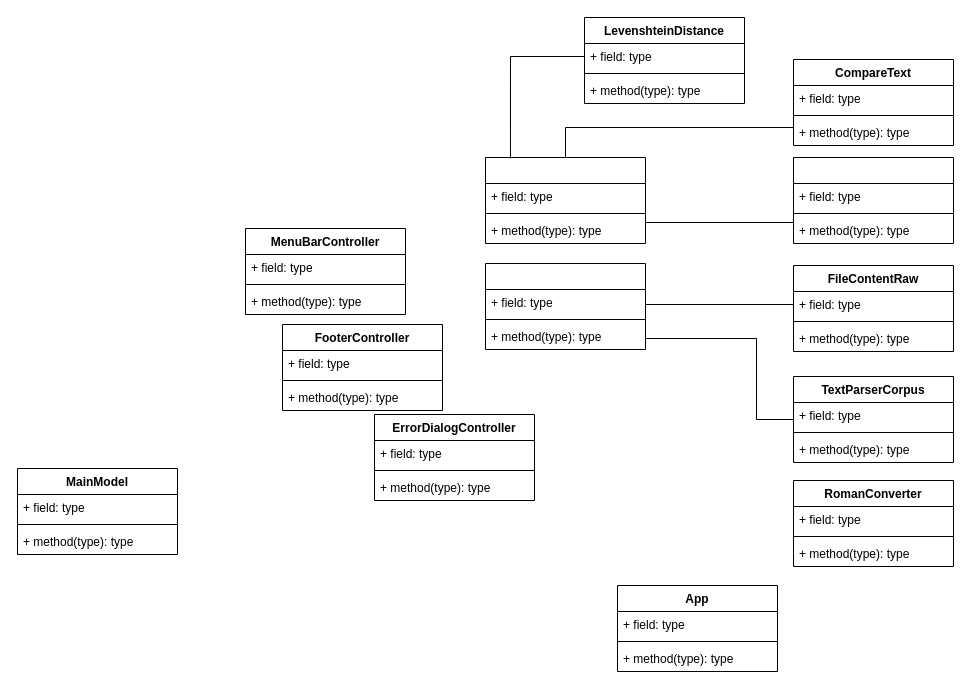
Some shapes in this 971 by 692 pixel diagram are drawn without their labels. Here are the shapes that lost their labels. From the top down, the box of each, then its label:
(484, 156, 646, 244): MainController
(792, 156, 954, 244): ErrorDialog
(484, 262, 646, 350): ToolBarController
